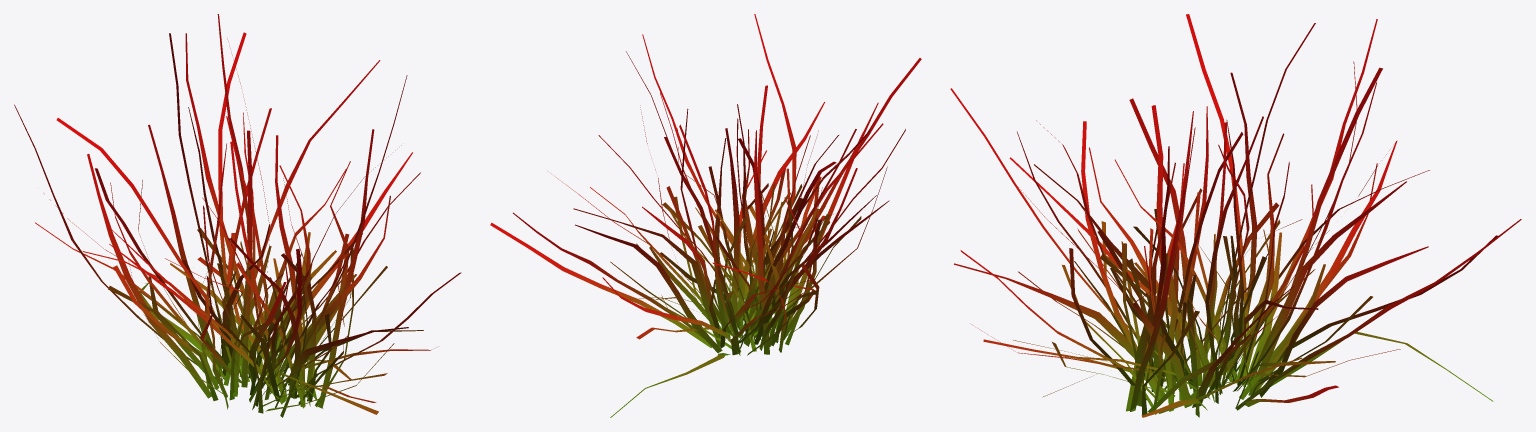
File: Wild Grass_LOD2_Var3_vlkhcbxia.fbx
3 views of the same model, side by side, from view 1: azimuth 30°, elevation 25°; view 2: azimuth 150°, elevation 25°; view 3: azimuth 270°, elevation 25° (orthographic). The views are drawn at different scales.
Parts seen in each view (by area): view 1: _b488_Var3_LOD2; view 2: _b488_Var3_LOD2; view 3: _b488_Var3_LOD2.
Part boxes in pixels (x1,y1,x2,y2): _b488_Var3_LOD2: [14, 14, 461, 417]; _b488_Var3_LOD2: [490, 14, 921, 417]; _b488_Var3_LOD2: [950, 14, 1521, 417].
Bounding box in the file's own units: 35.88 × 27.21 × 41.49.
